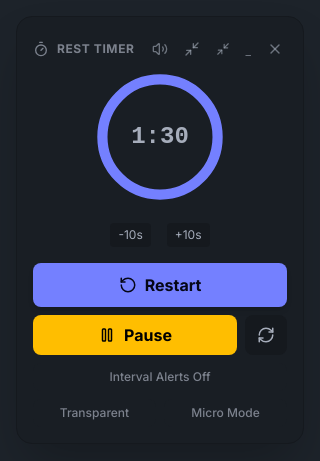
RestTimer › should play beep sound at 30-second intervals when interval alerts are enabled
Enable interval alerts
Click the button "Interval Alerts Off" at (160, 377), box left=33, top=363, right=287, bottom=391
Wait 60000 ms
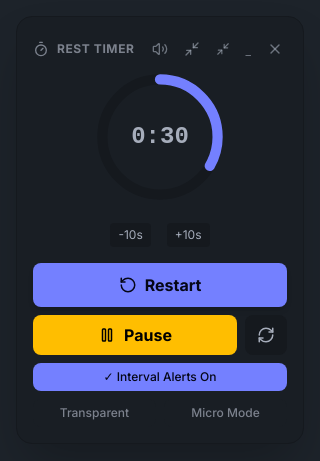
Now the button "✓ Interval Alerts On" is shown, box left=33, top=363, right=287, bottom=391
